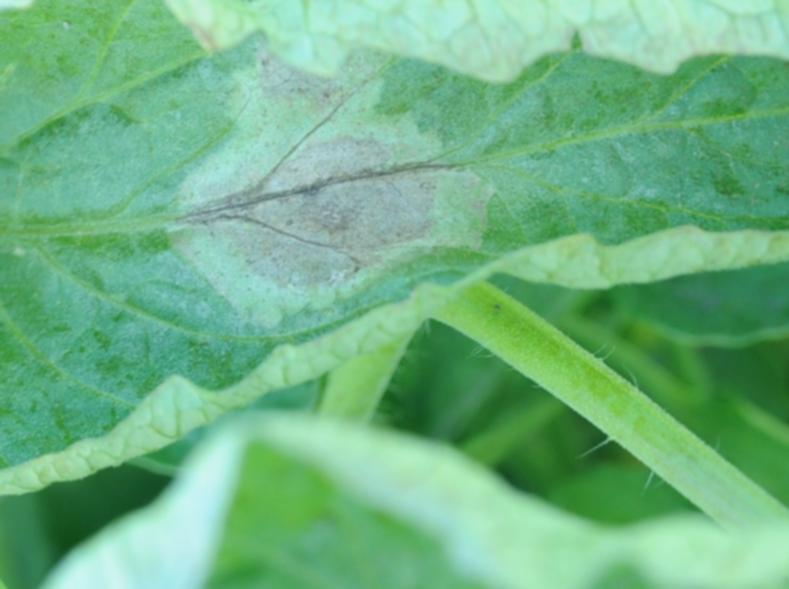Tomato leaf late blight: (0, 0, 789, 481)
